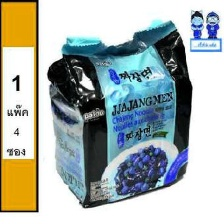snack: (41, 13, 198, 213)
